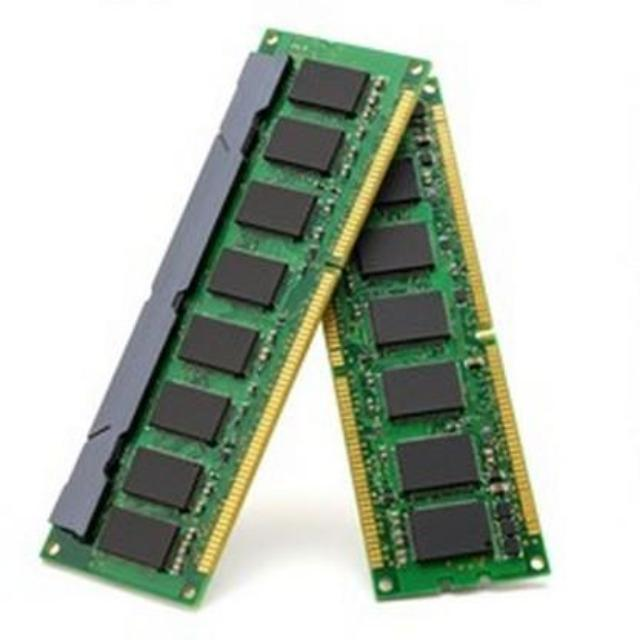RAM: (14, 21, 557, 626)
